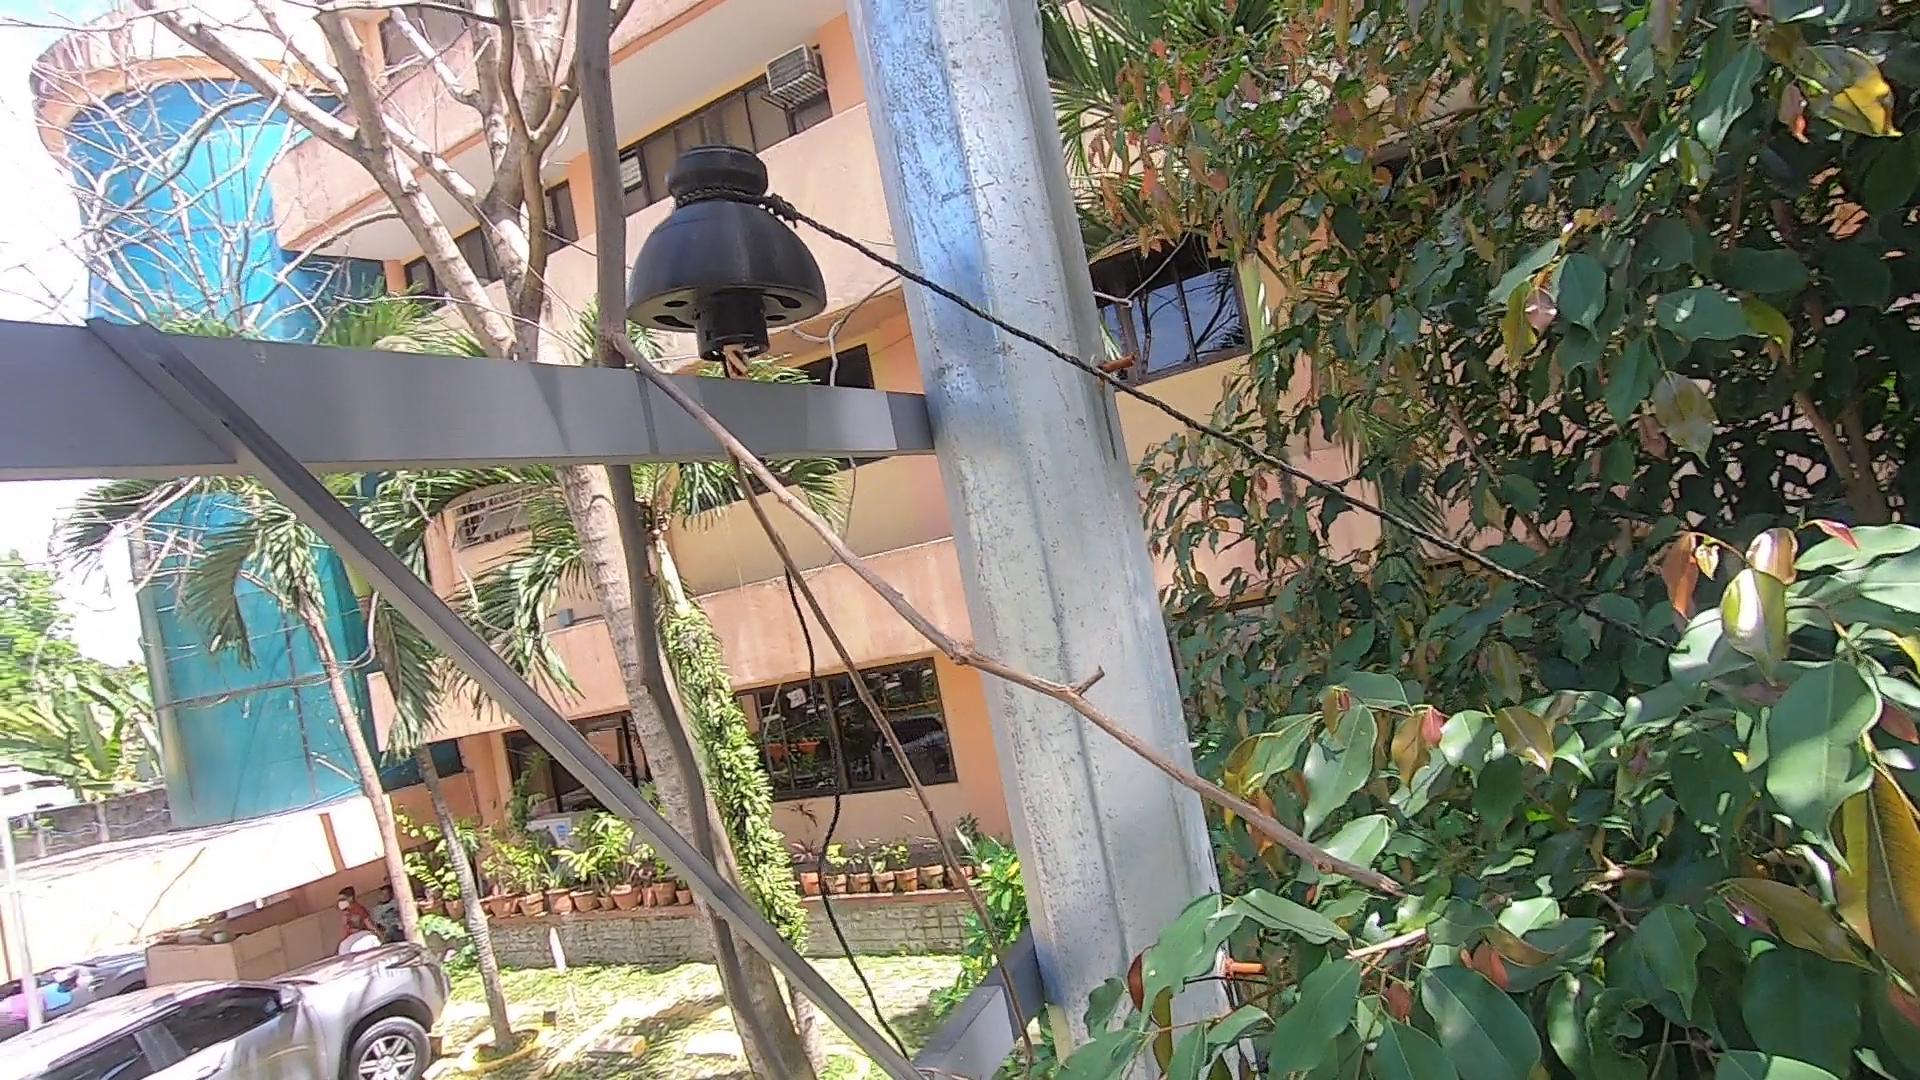tree branch: (508, 3, 1427, 1080)
